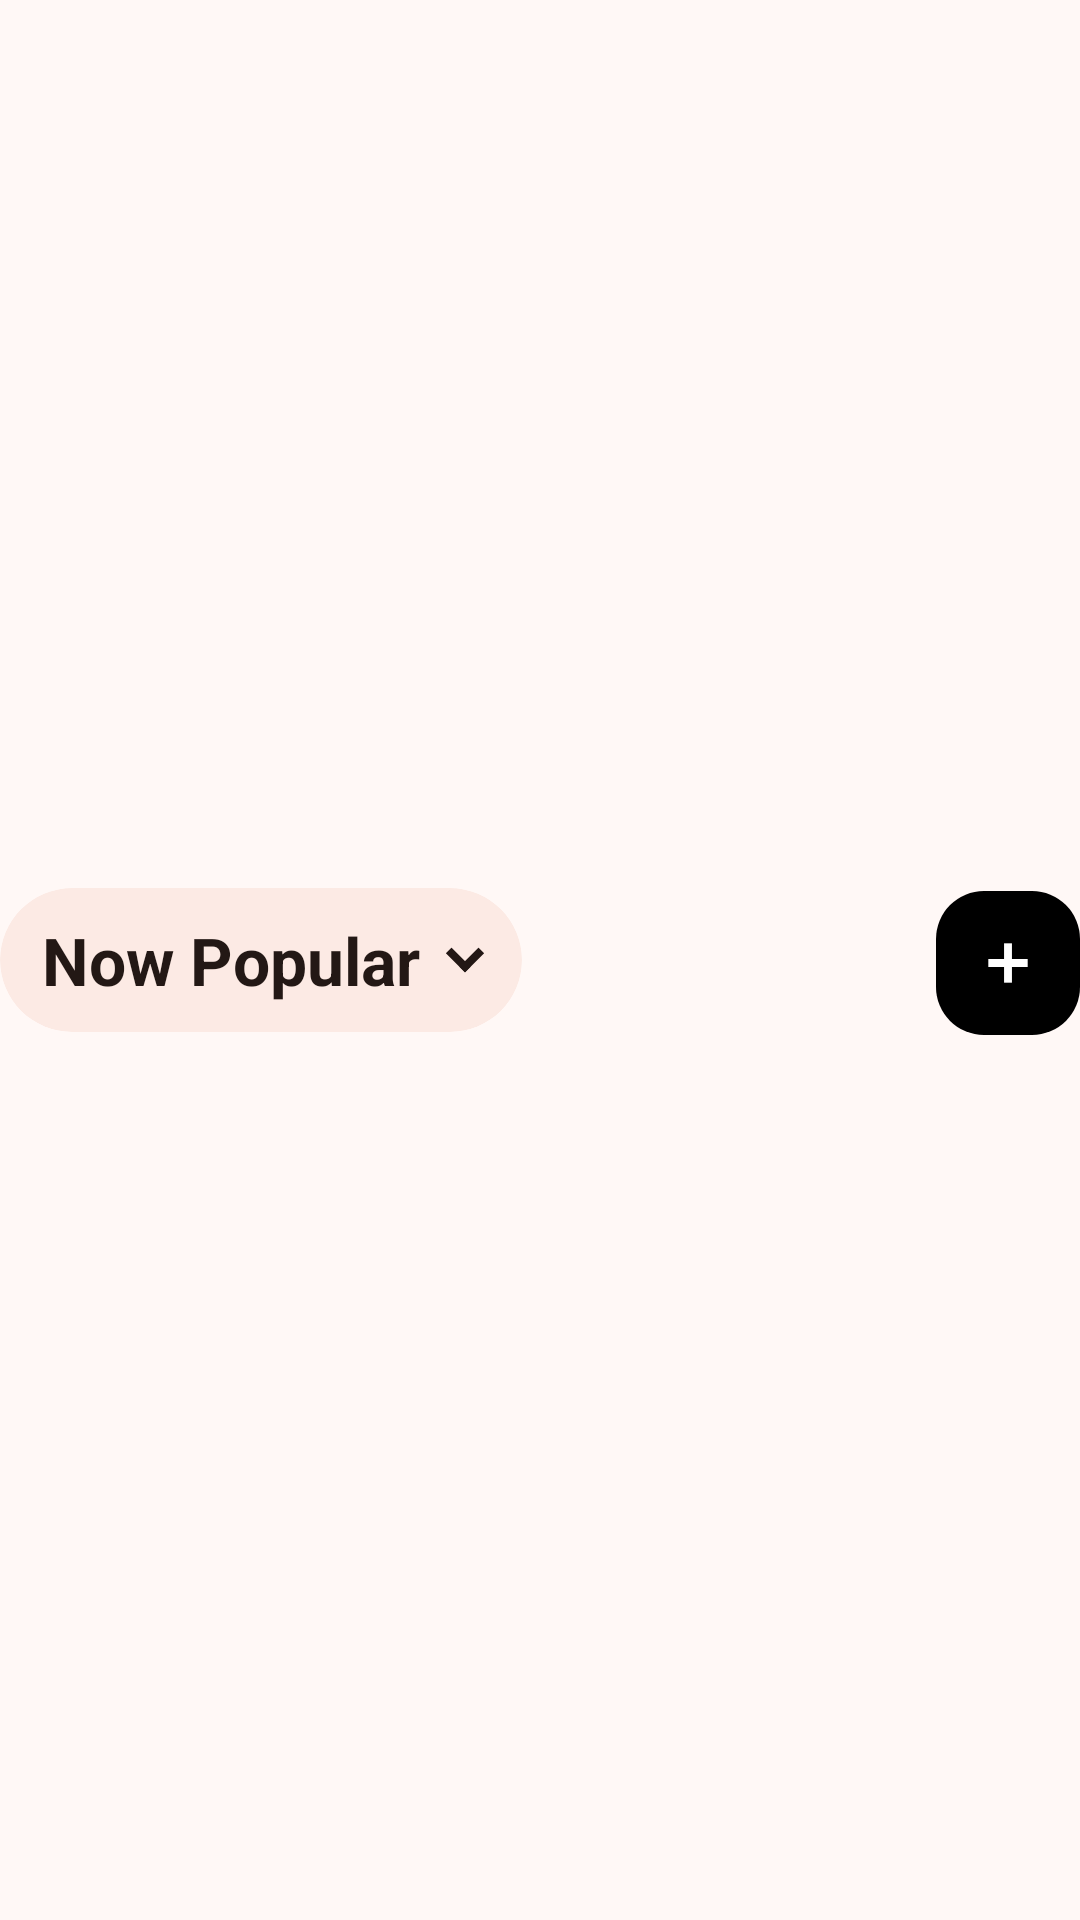

Screen size 1080px×1920px. Icon name, then its box in pixels as (x1, y1, x2, y2):
Add local station: (936, 891, 1080, 1035)
chevron down: (446, 947, 484, 973)
